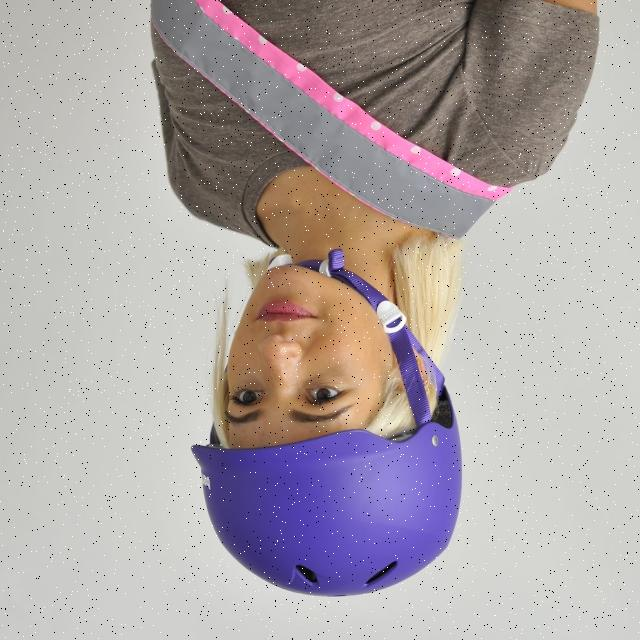Helmet: (187, 260, 464, 601)
